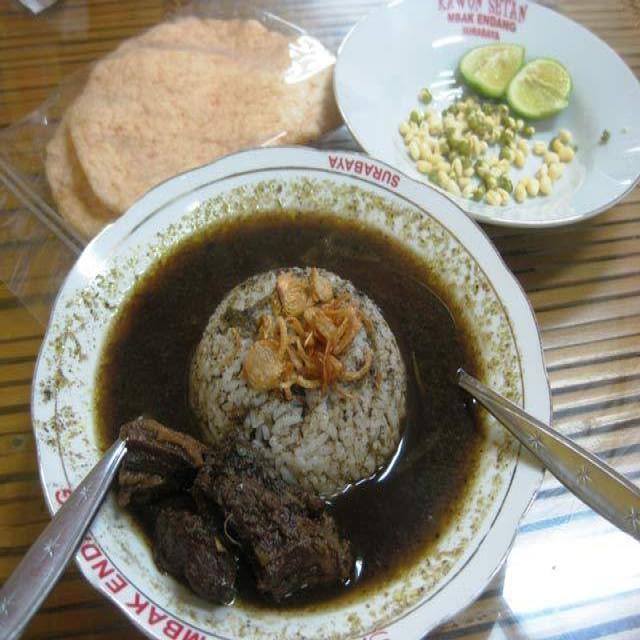Rawon: (103, 220, 473, 590)
